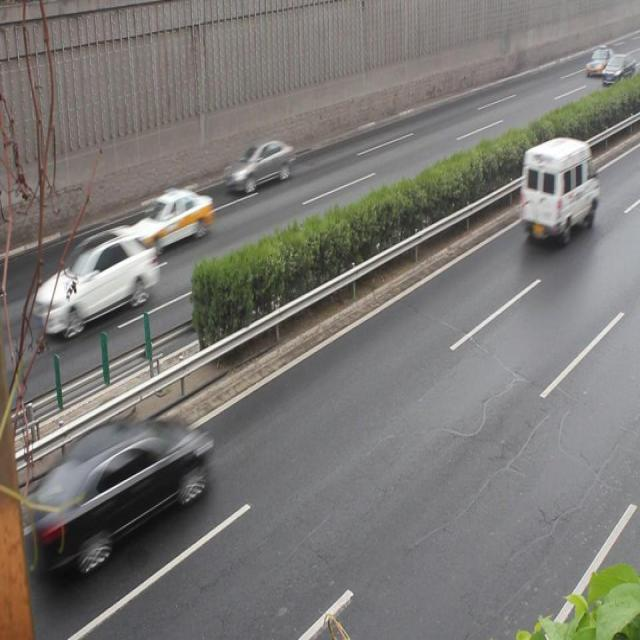car: (56, 417, 210, 556), (35, 233, 157, 337), (519, 136, 597, 240), (127, 187, 213, 255), (224, 139, 295, 193)
